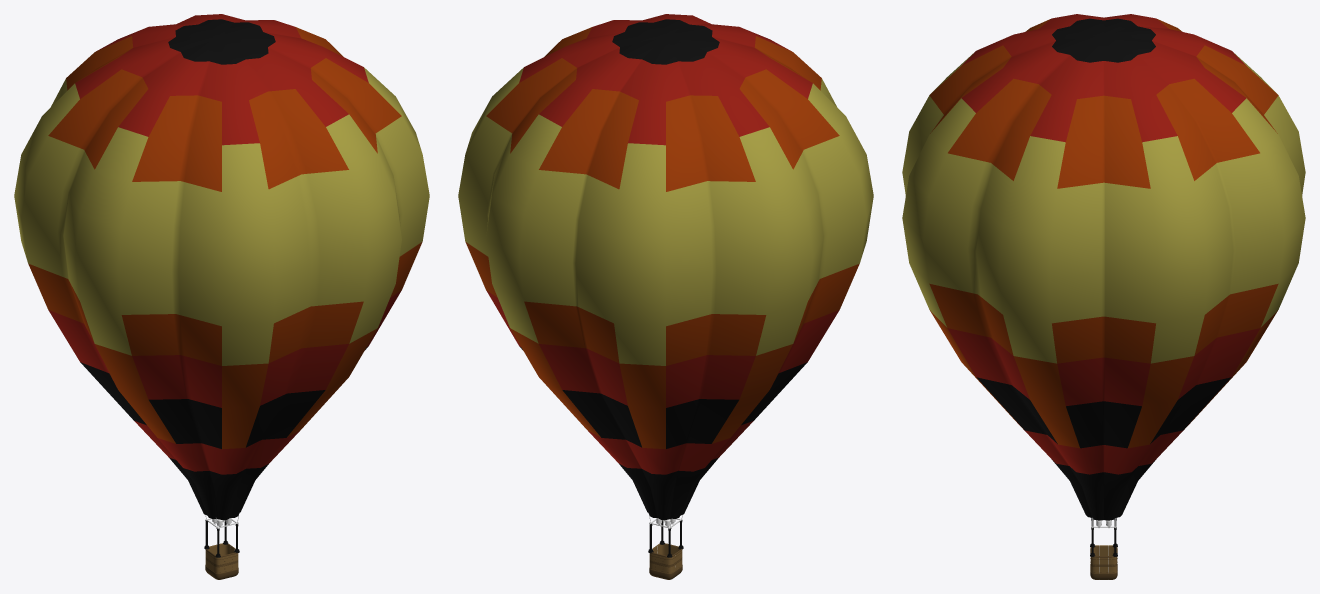
The model's file is character.glb.
The picture shows the model from 3 angles, left to right: view 1: azimuth 30°, elevation 25°; view 2: azimuth 150°, elevation 25°; view 3: azimuth 270°, elevation 25°; orthographic projection.
Visible parts, largest first — view 1: Sphere, Circle; view 2: Sphere, Circle; view 3: Sphere, Circle.
Boxes of the visible parts, <box> form: Sphere: <box>14,14,429,519</box>; Circle: <box>204,515,239,579</box>; Sphere: <box>458,14,873,519</box>; Circle: <box>648,515,683,579</box>; Sphere: <box>902,14,1305,520</box>; Circle: <box>1090,517,1117,579</box>.
Bounding box in the file's own units: 22.42 × 33.16 × 22.42.
